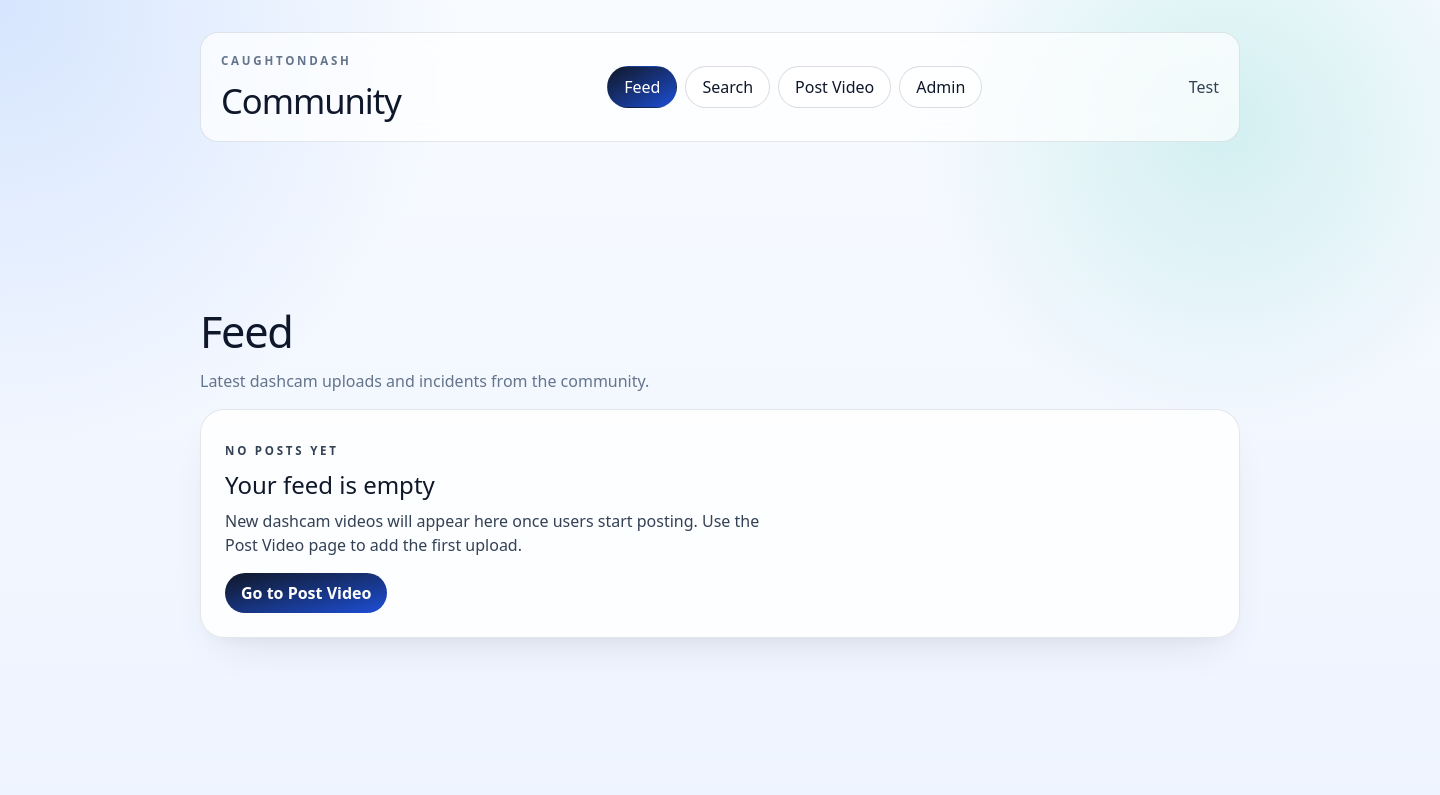
it: All videos table › renders every video with its derived state
Click the button "Admin" at (941, 87), box [899,66,982,108]
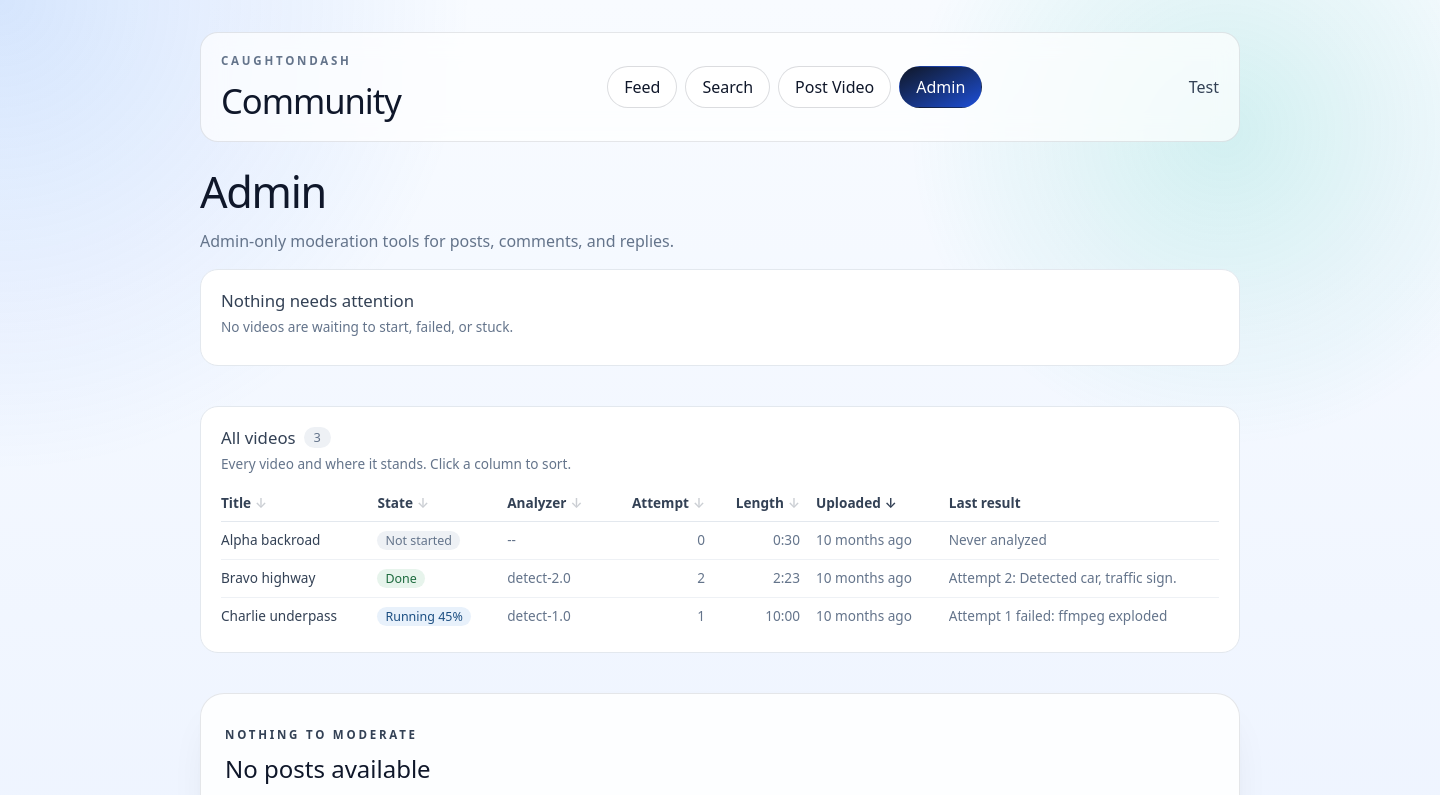
Expected: the table is shown, [221,485,1219,634]
Expected: the text "Not started" is shown, [378,531,460,550]
Expected: the text "Done" is shown, [378,569,425,588]
